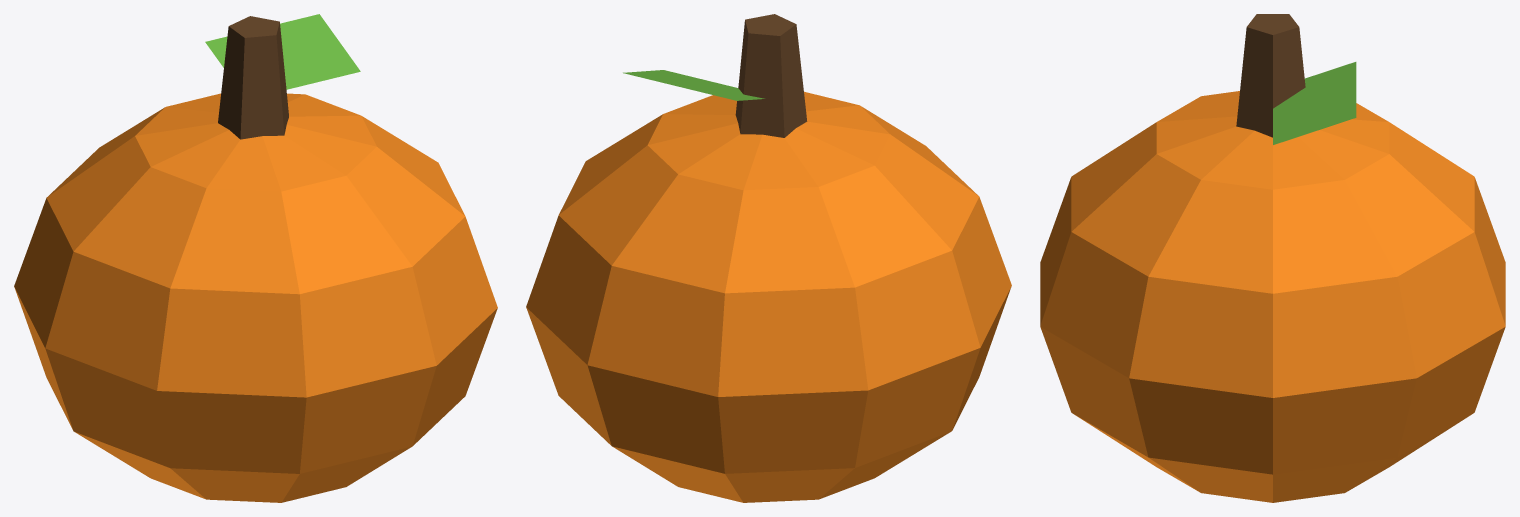
File: pumpkin_item.obj
3 views of the same model, side by side, from view 1: azimuth 30°, elevation 25°; view 2: azimuth 150°, elevation 25°; view 3: azimuth 270°, elevation 25° (orthographic).
Visible parts, largest first — view 1: item; view 2: item; view 3: item.
Part boxes in pixels (<box>): item: <box>14,14,497,502</box>; item: <box>526,14,1011,502</box>; item: <box>1040,14,1505,502</box>.
Bounding box in the file's own units: 0.4416 × 0.45 × 0.42.
